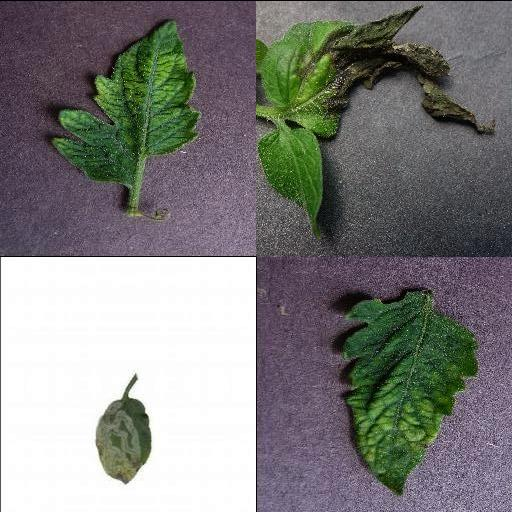Late Blight: (262, 4, 500, 136)
Leaf Miner: (93, 396, 150, 484)
Mosaic Virus: (339, 288, 481, 494), (49, 16, 203, 188)
